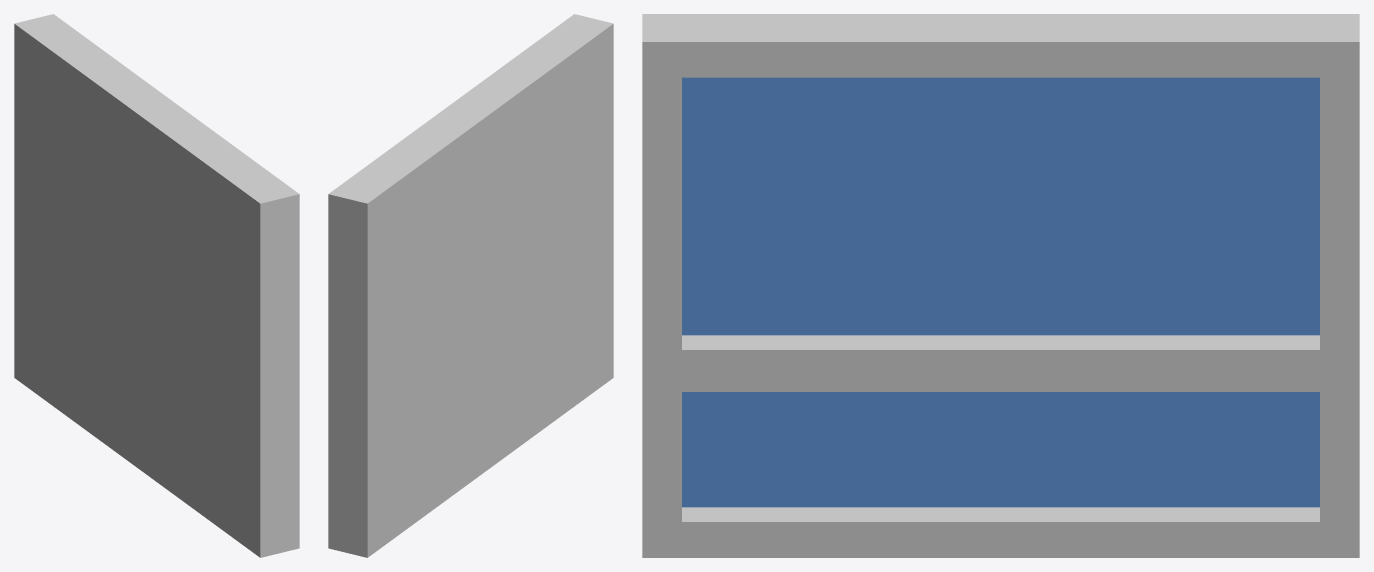
Rendered from window.fbx.
3 views of the same model, side by side, from view 1: azimuth 30°, elevation 25°; view 2: azimuth 150°, elevation 25°; view 3: azimuth 270°, elevation 25° (orthographic). The views are drawn at different scales.
Parts seen in each view (by area): view 1: Window; view 2: Window; view 3: Window.
Boxes of the visible parts, bbox=[...] form: Window: bbox=[14, 14, 299, 557]; Window: bbox=[328, 14, 613, 557]; Window: bbox=[642, 14, 1359, 557].
Size of the model in its own units: 8.58 by 73.95 by 93.12.
